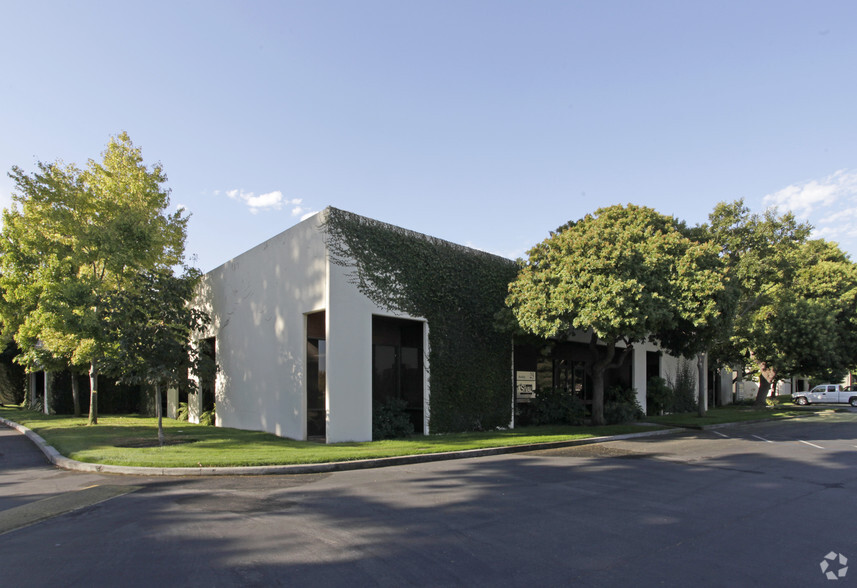tree: (1, 130, 214, 428), (489, 201, 725, 427)
